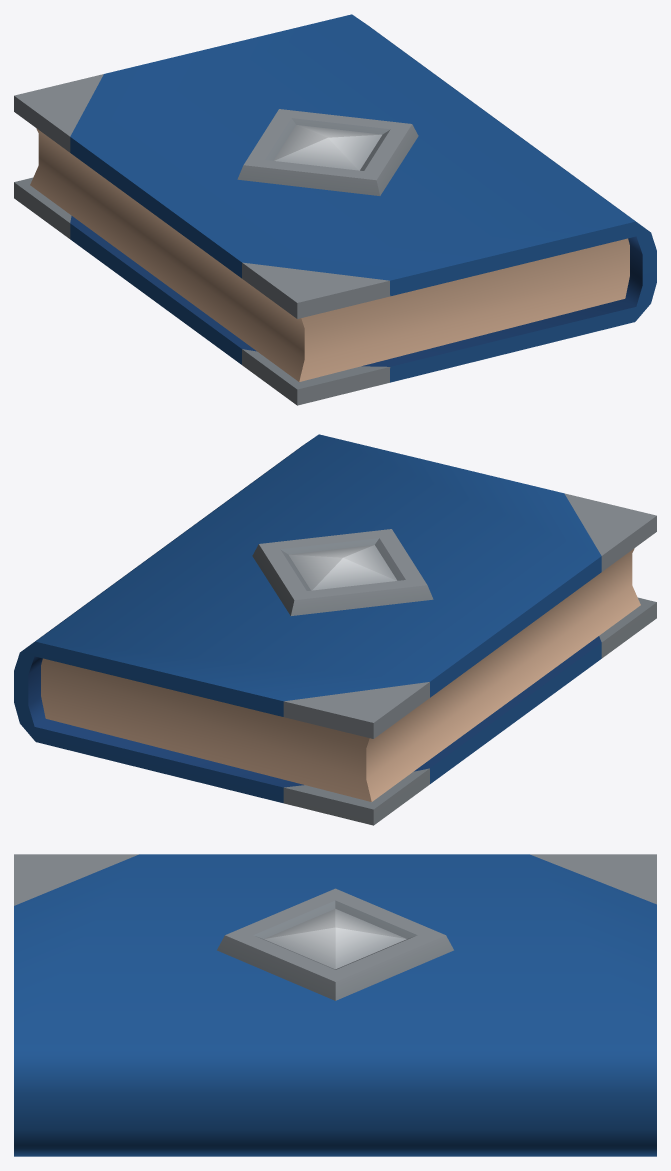
The model's file is BookClosed8.fbx.
3 renders of one model, top to bottom at view 1: azimuth 30°, elevation 25°; view 2: azimuth 150°, elevation 25°; view 3: azimuth 270°, elevation 25°, orthographic. The views are drawn at different scales.
Visible parts, largest first — view 1: BookClosed8; view 2: BookClosed8; view 3: BookClosed8.
Boxes of the visible parts, box(x1,y1,x2,y2) form: BookClosed8: box(14, 14, 656, 405); BookClosed8: box(14, 434, 656, 825); BookClosed8: box(14, 854, 656, 1156).
Size of the model in its own units: 22 by 7.14 by 30.01.
